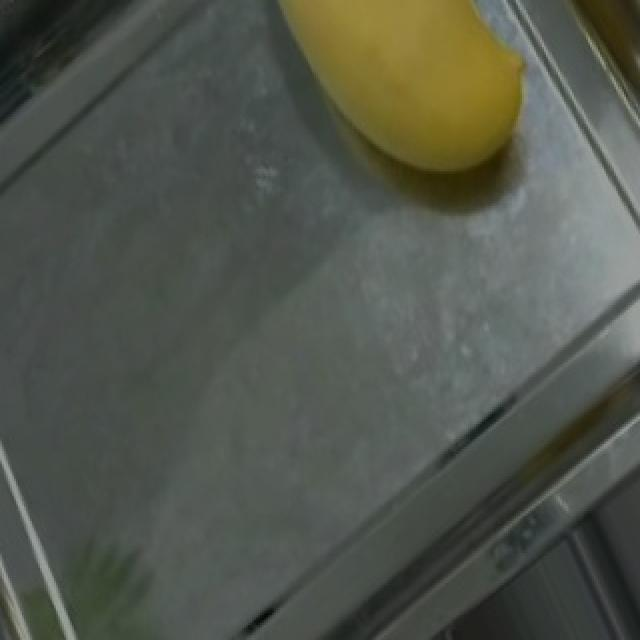fruit: (230, 0, 580, 243)
